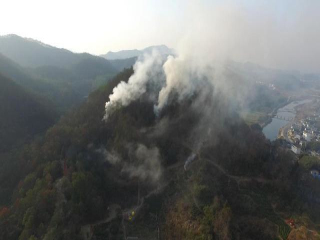smoke: (97, 10, 299, 185)
